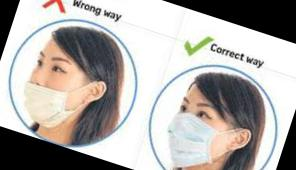mask_weared_incorrect: (18, 47, 91, 124)
with_mask: (165, 93, 228, 162)
